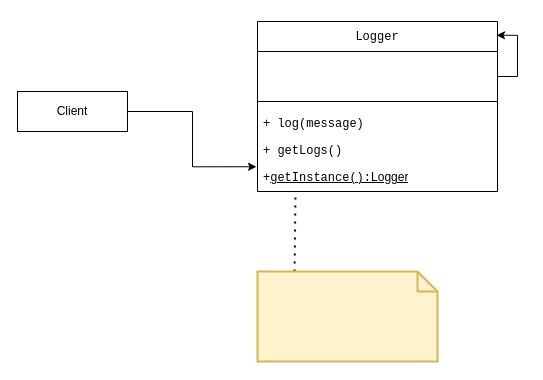
Some shapes in this 543 by 380 pixel diagram are drawn without their labels. Here are the shapes that lost their labels. From the top down, the centre of each, then its label:
the point at 377,76: - instance: Logger
the point at 347,316: if (instance == null) { instance = new Logger (); } return instance;
